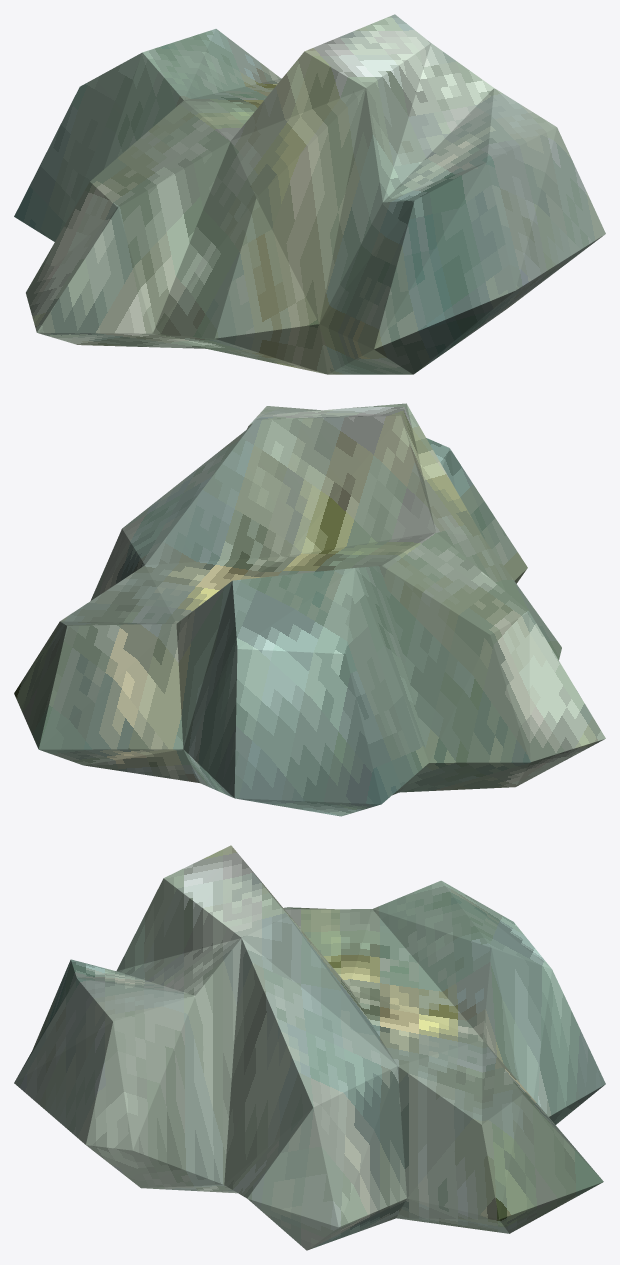
3 renders of one model, top to bottom at view 1: azimuth 30°, elevation 25°; view 2: azimuth 150°, elevation 25°; view 3: azimuth 270°, elevation 25°, orthographic.
Parts seen in each view (by area): view 1: mn_06; view 2: mn_06; view 3: mn_06.
Boxes of the visible parts, x1,y1,x2,y2 form: mn_06: (14, 14, 605, 374); mn_06: (14, 403, 605, 816); mn_06: (14, 845, 605, 1250).
Size of the model in its own units: 0.3758 by 0.2087 by 0.3742.
1 material, 1 textured.
